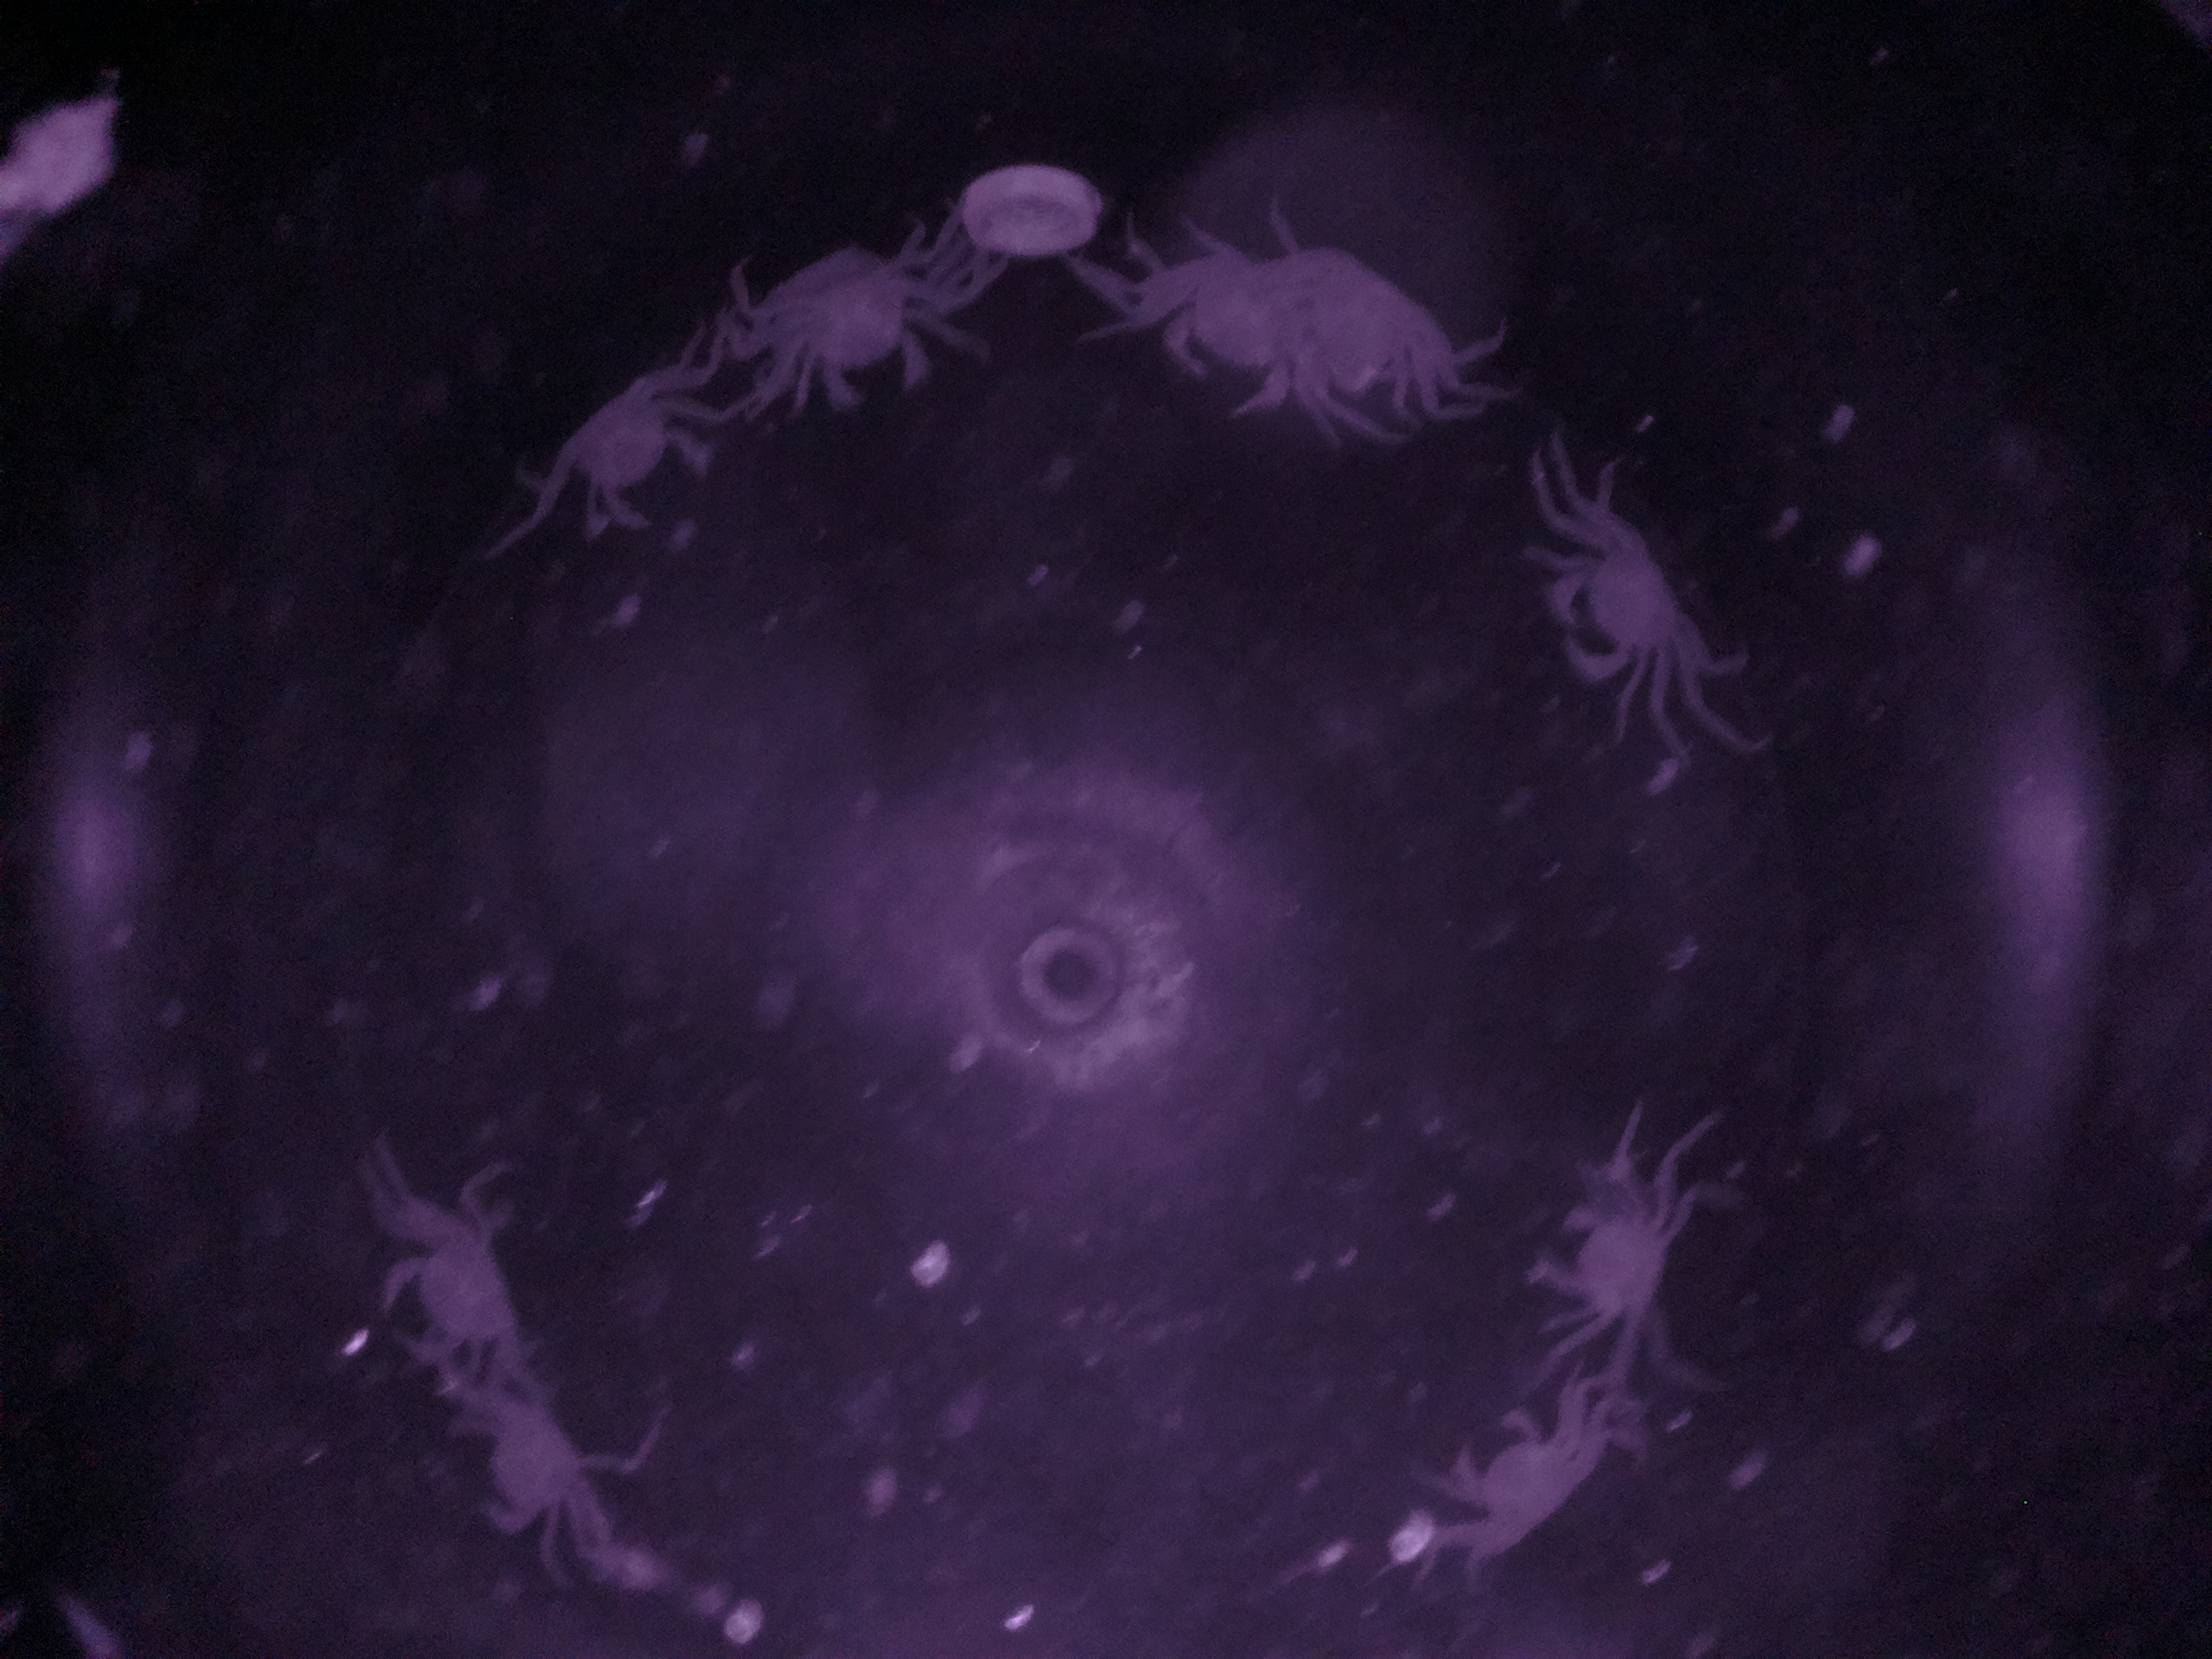Crab: (1538, 514, 1709, 714)
